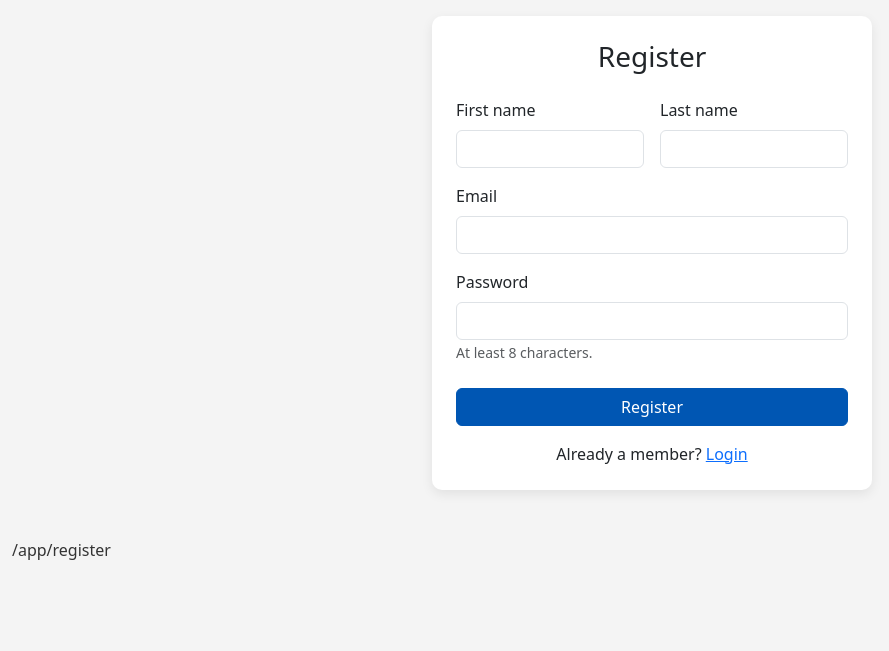
Scenario: <RegisterPage /> › explains when the email is already registered
Type "Ana" into the field labelled "First name". click: x=550, y=149
box: [456,130,644,168]
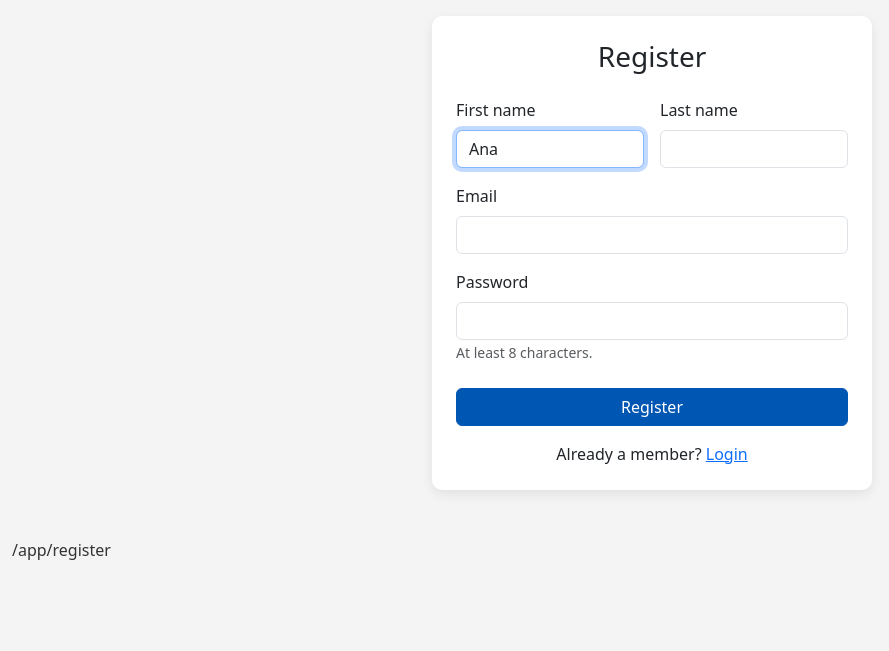
Type "Lee" into the field labelled "Last name". click: x=754, y=149
box: [660,130,848,168]
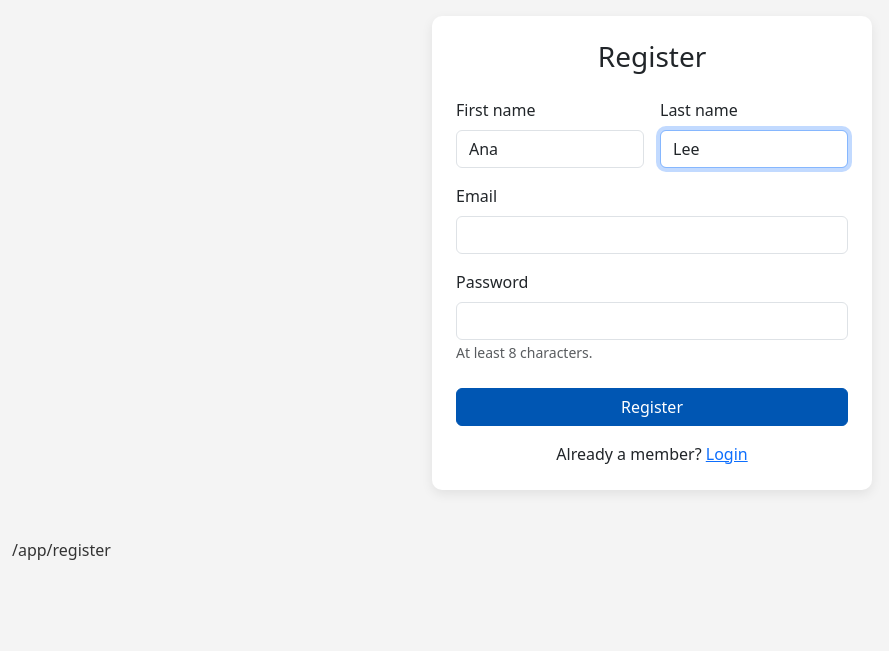
Type "ana@example.com" into the field labelled "Email". click: x=652, y=235
box: [456,216,848,254]
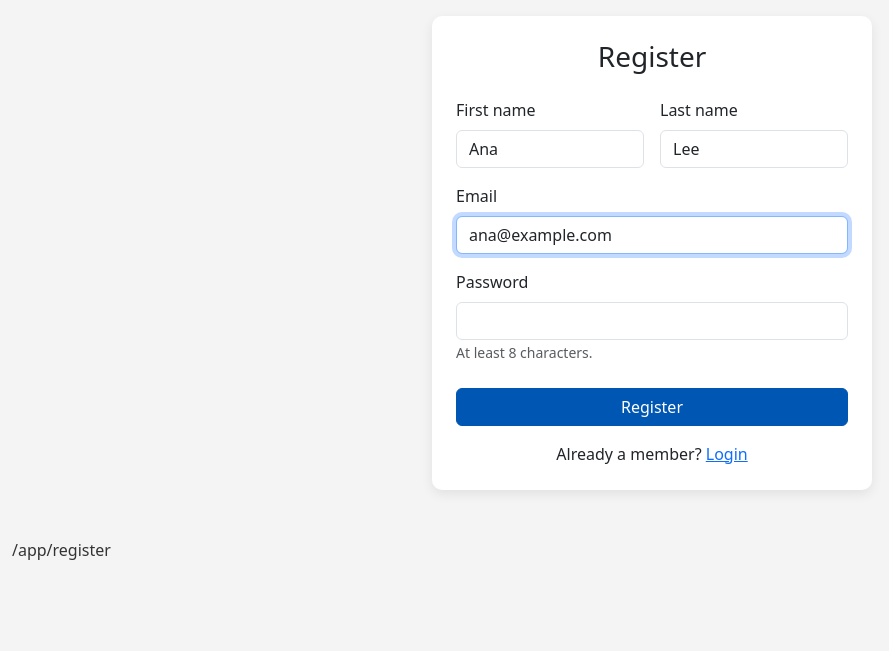
Type "Passw0rd!" into the password field labelled "Password". click: x=652, y=321
box: [456,302,848,340]
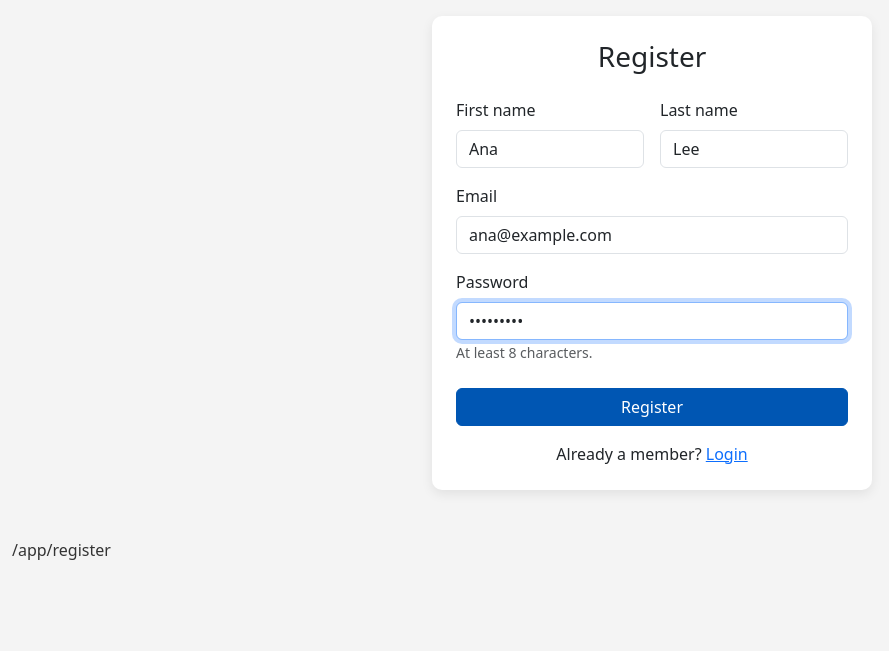
Click the button "Register". click: x=652, y=407
box: [456,388,848,426]
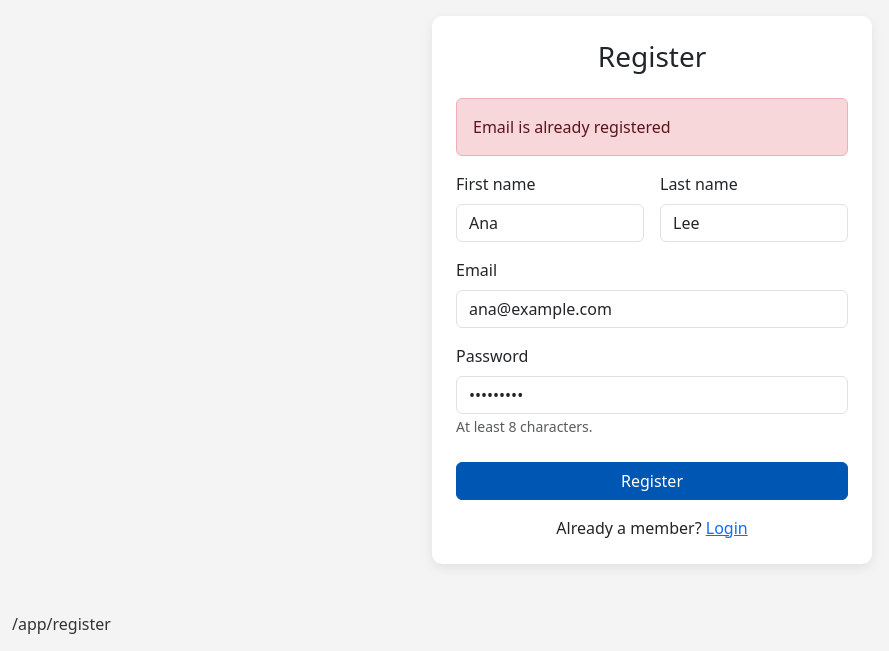
Check: the text with test id "location" reads "/app/register", box [12,613,111,635]
Check: the message reads "Email is already registered", box [473,116,671,138]
